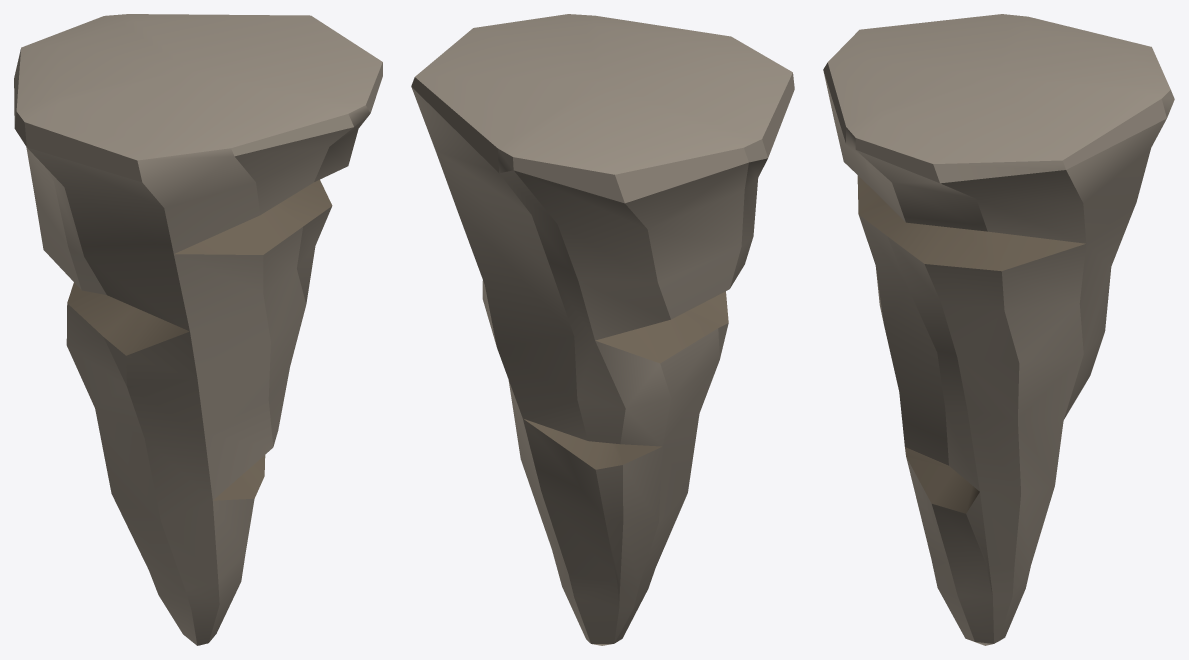
The model's file is ice_icicle_medium.fbx.
The picture shows the model from 3 angles, left to right: view 1: azimuth 30°, elevation 25°; view 2: azimuth 150°, elevation 25°; view 3: azimuth 270°, elevation 25°; orthographic projection.
Parts seen in each view (by area): view 1: icicle_medium; view 2: icicle_medium; view 3: icicle_medium.
Boxes of the visible parts, x1=… form: icicle_medium: x1=14, y1=14, x2=382, y2=645; icicle_medium: x1=411, y1=14, x2=794, y2=645; icicle_medium: x1=823, y1=14, x2=1174, y2=645.
Bounding box in the file's own units: 4 × 6.61 × 3.73.
